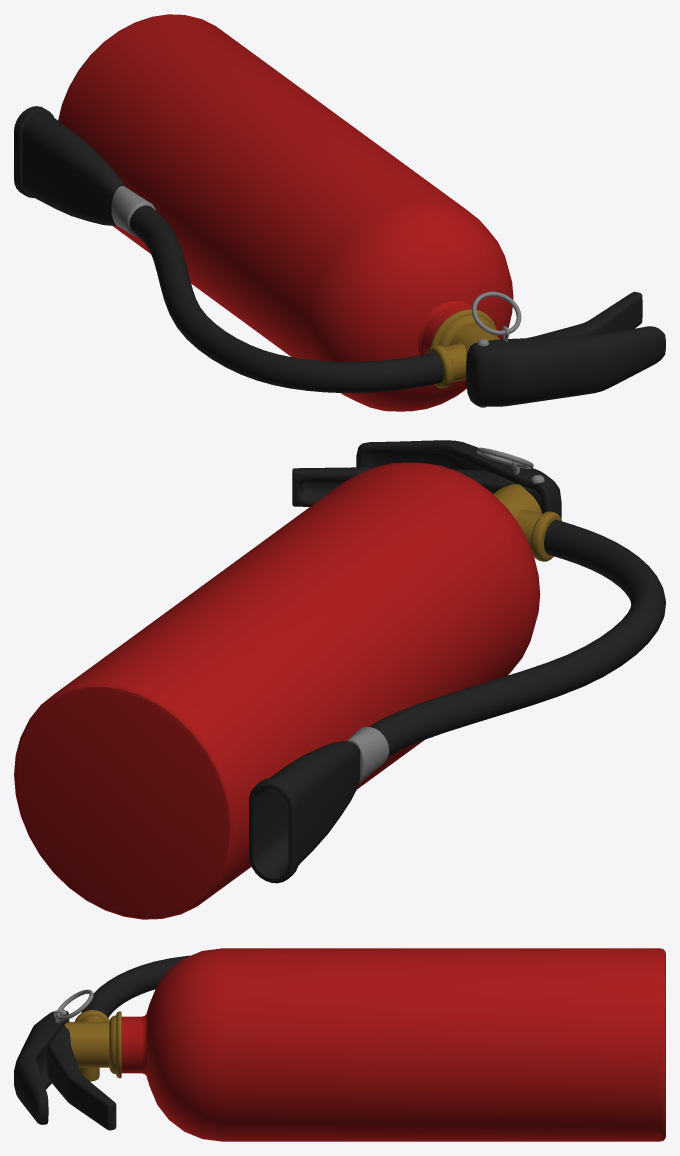
The model's file is Fire Extinguisher.fbx.
The picture shows the model from 3 angles, top to bottom: view 1: azimuth 30°, elevation 25°; view 2: azimuth 150°, elevation 25°; view 3: azimuth 270°, elevation 25°; orthographic projection. The views are drawn at different scales.
Visible parts, largest first — view 1: 3dmxw.cn (×6); view 2: 3dmxw.cn (×6); view 3: 3dmxw.cn (×5).
Part boxes in pixels (box(x1,y1,x2,y2)): 3dmxw.cn (×6): box(14, 14, 665, 411); 3dmxw.cn (×6): box(14, 440, 665, 919); 3dmxw.cn (×5): box(14, 948, 665, 1141).
Size of the model in its own units: 128 by 66.93 by 225.
